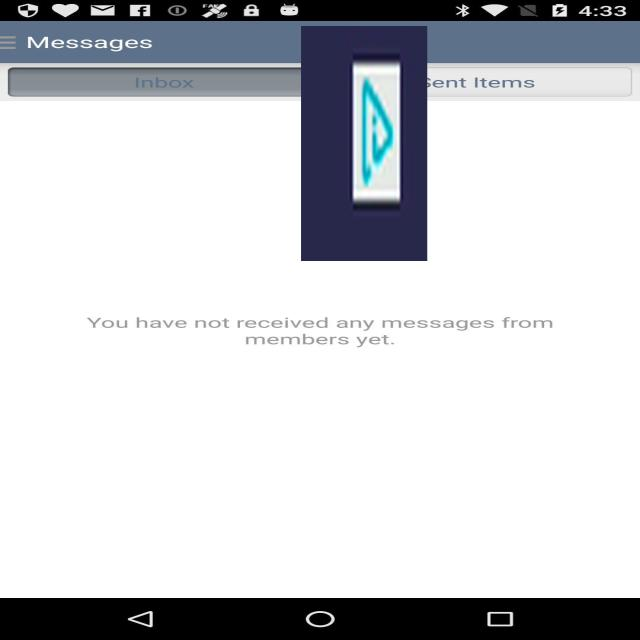sneaking: (301, 26, 427, 261)
